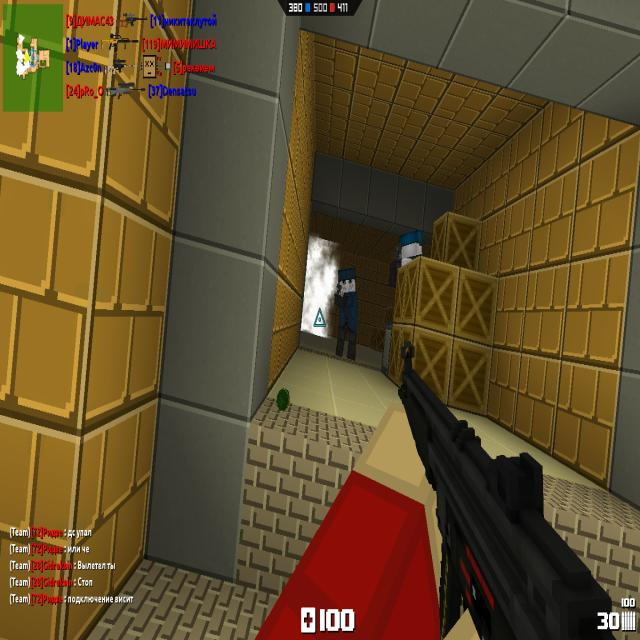enemy: (334, 267, 358, 361), (395, 228, 424, 273)
